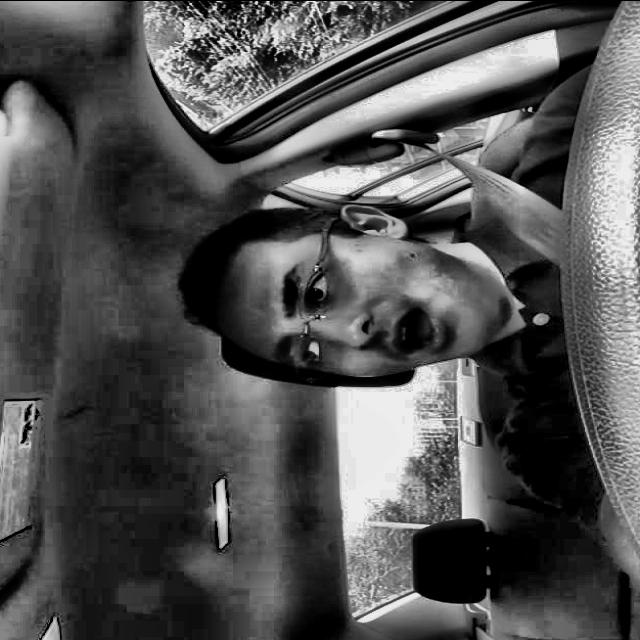open_eyes: (293, 263, 339, 315), (290, 335, 339, 381)
open_mouth: (378, 290, 458, 375)
